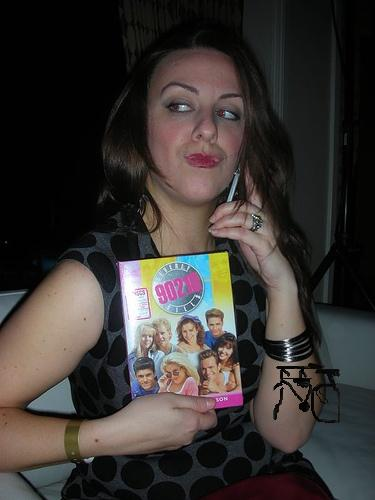tampered: (273, 364, 340, 423)
